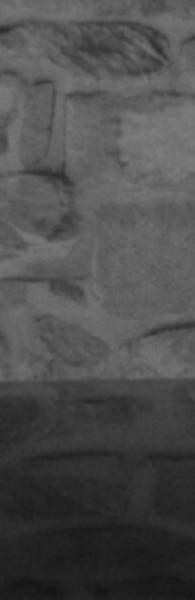water: (0, 381, 195, 600)
